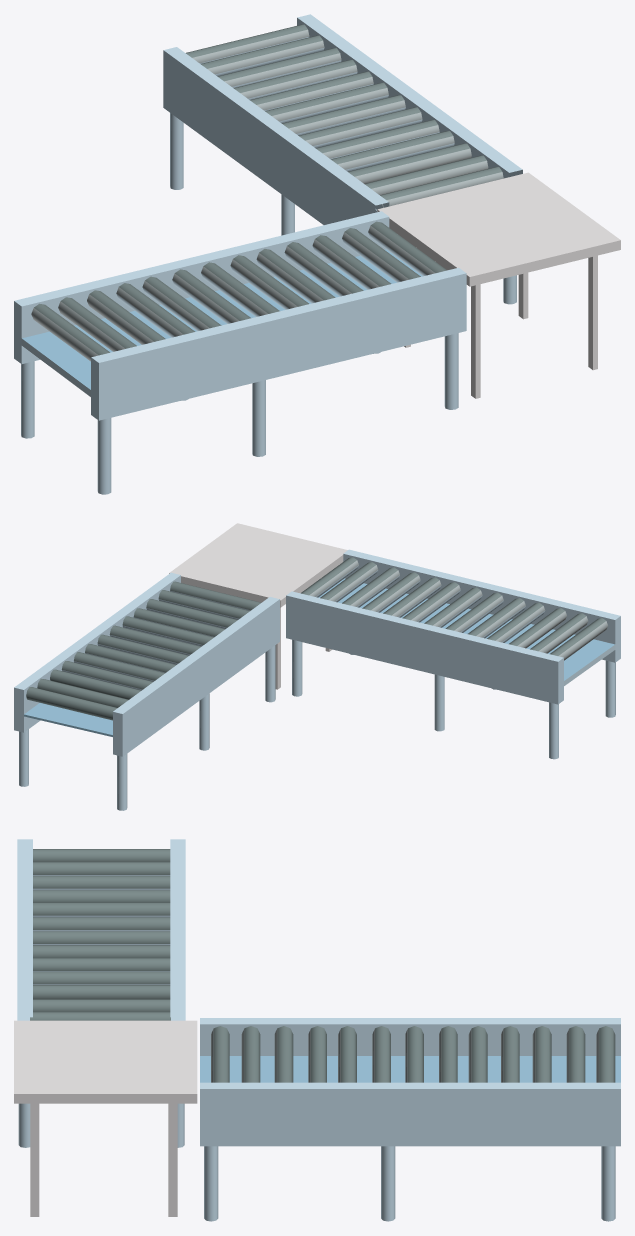
File: cornertrans.fbx
3 views of the same model, one above another, from view 1: azimuth 30°, elevation 25°; view 2: azimuth 150°, elevation 25°; view 3: azimuth 270°, elevation 25° (orthographic). The views are drawn at different scales.
Parts seen in each view (by area): view 1: SM_Transporter_200.002; view 2: SM_Transporter_200.002; view 3: SM_Transporter_200.002.
Part boxes in pixels (bbox=[...]): SM_Transporter_200.002: bbox=[14, 14, 620, 494]; SM_Transporter_200.002: bbox=[14, 523, 620, 810]; SM_Transporter_200.002: bbox=[14, 839, 620, 1221].
Size of the model in its own units: 283 by 69.72 by 288.
